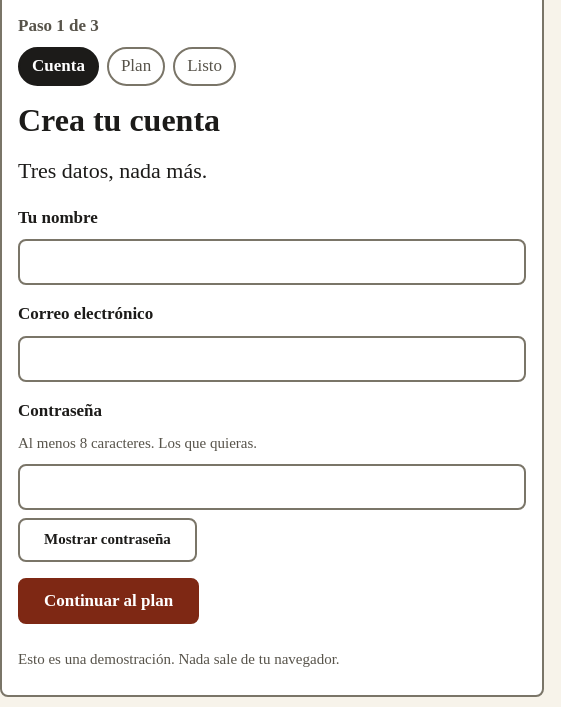
it: whole flow › another plan can be chosen and is confirmed
The width and height of the screenshot is (561, 707).
Type "Ana Pérez" into the field labelled "Tu nombre". click: (272, 262)
box: 18,239 -> 526,285
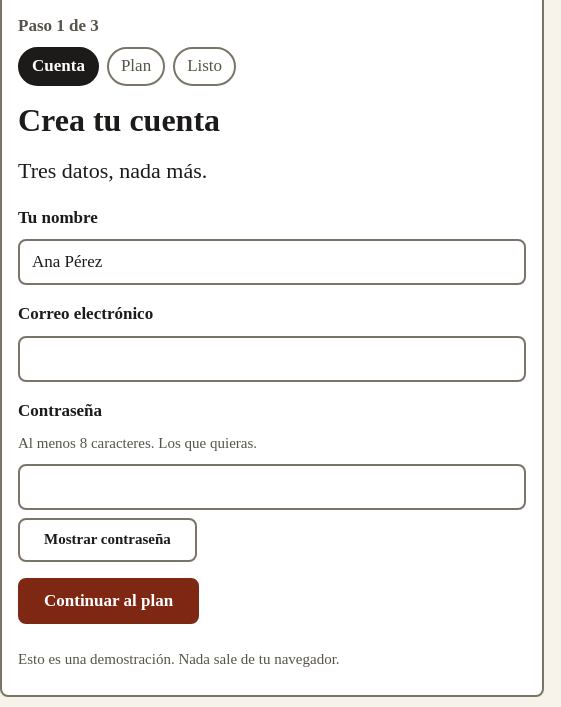
Type "ana@example.com" into the field labelled "Correo electrónico". click: (272, 359)
box: 18,336 -> 526,382
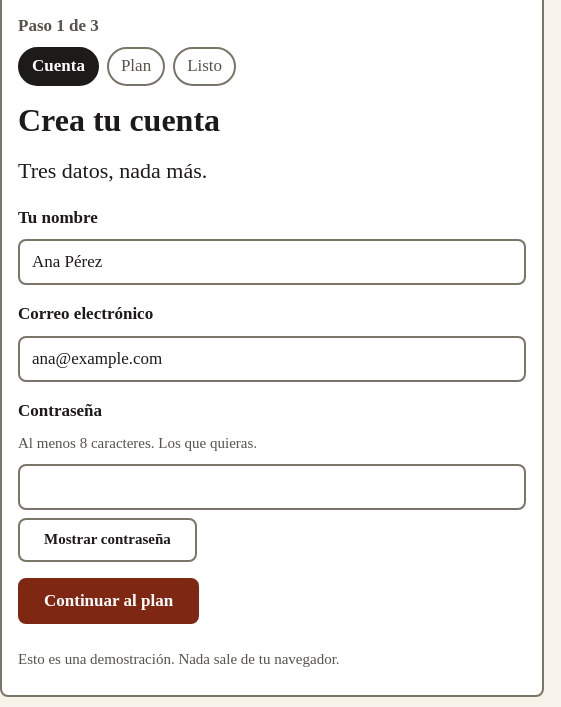
Type "correct horse" into the password field labelled "Contraseña". click: (272, 487)
box: 18,464 -> 526,510
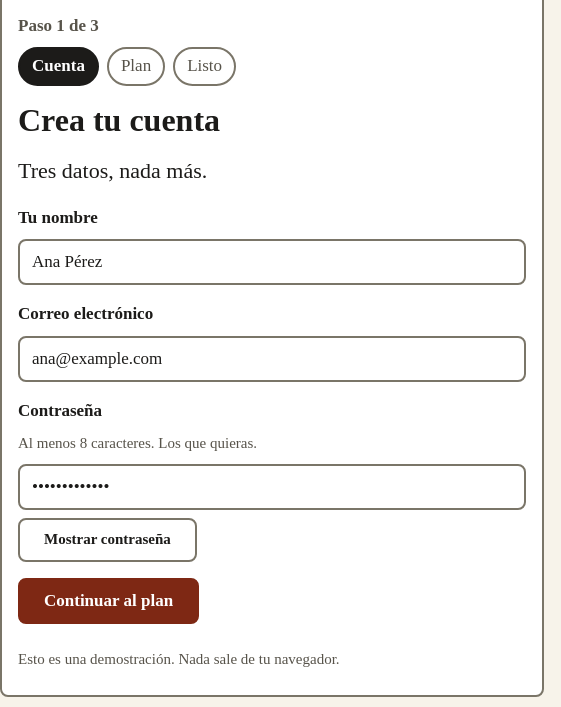
Click the button "Continuar al plan". click: (109, 601)
box: 18,578 -> 199,624
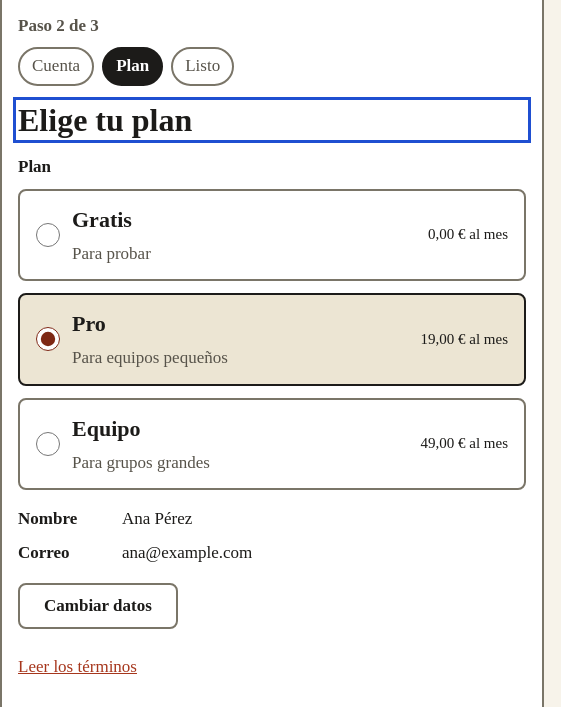
Click the radio button labelled "Equipo Para grupos grandes 49,00 € al mes". click: (48, 444)
box: 36,432 -> 60,456
(page scrolled)
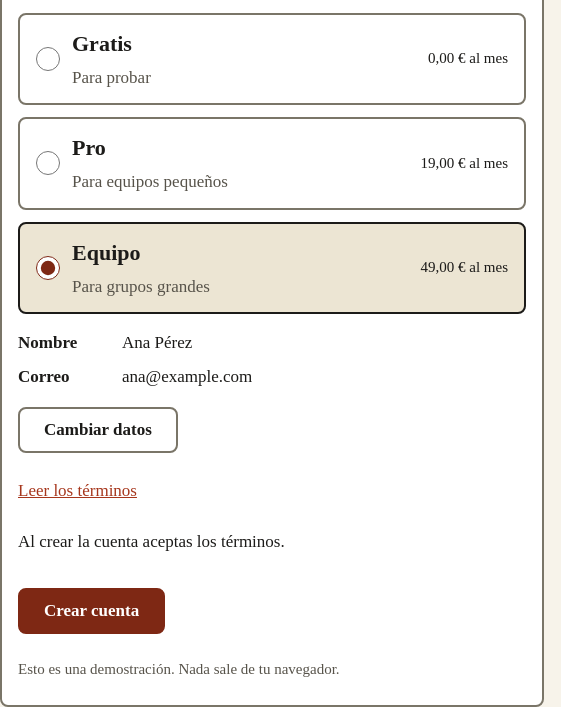
Click the button "Crear cuenta". click: (92, 611)
box: 18,588 -> 165,634
(page scrolled)
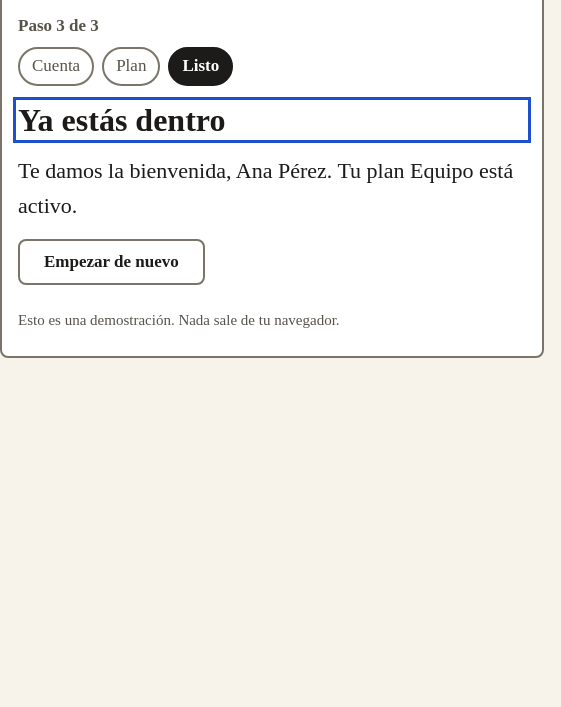
Result: the message reads "Te damos la bienvenida, Ana Pérez. Tu plan Equipo está activo." at 18,158 -> 513,218
